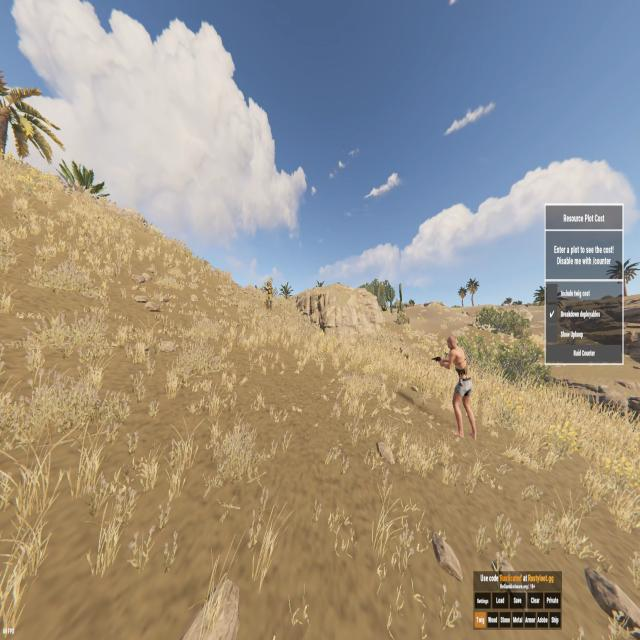Player: (436, 333, 478, 442), (264, 281, 272, 312)
